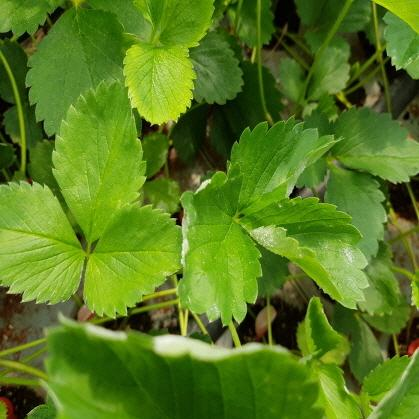Powdery Mildew Leaf: (235, 194, 369, 311), (174, 160, 263, 327), (225, 114, 344, 217)
